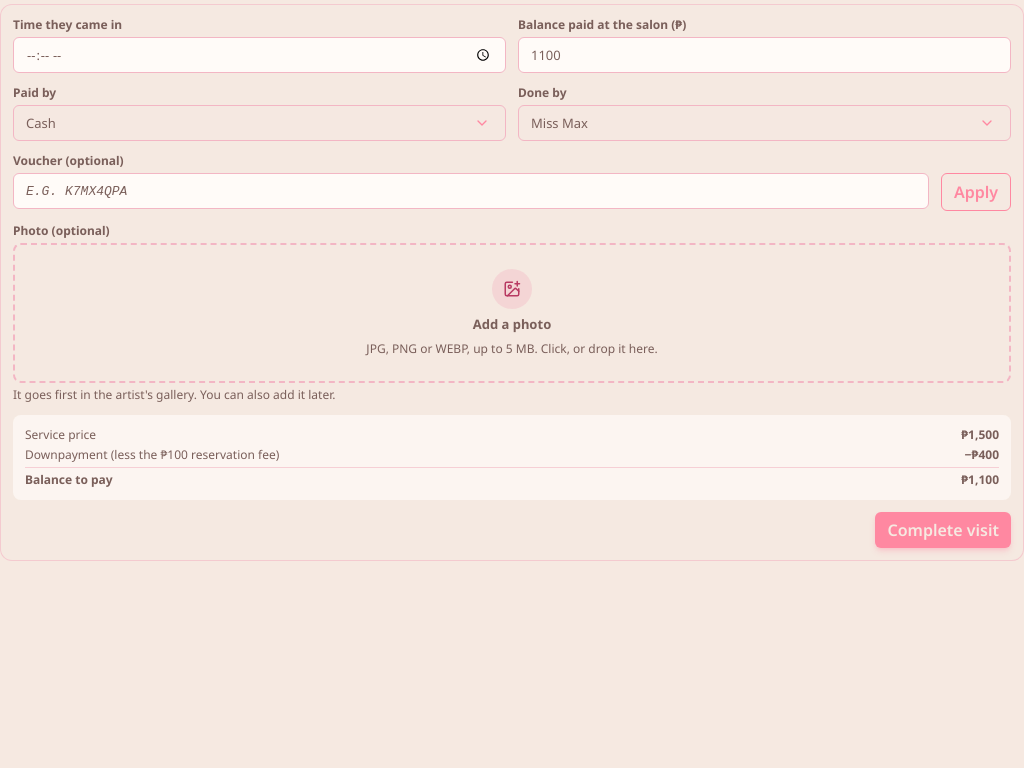
Test: the Complete visit form › refuses a balance that isn't whole pesos
Replace the text in the field labelled "Balance paid at the salon (₱)" with "12.5" at (764, 55), box [518,37,1011,73]
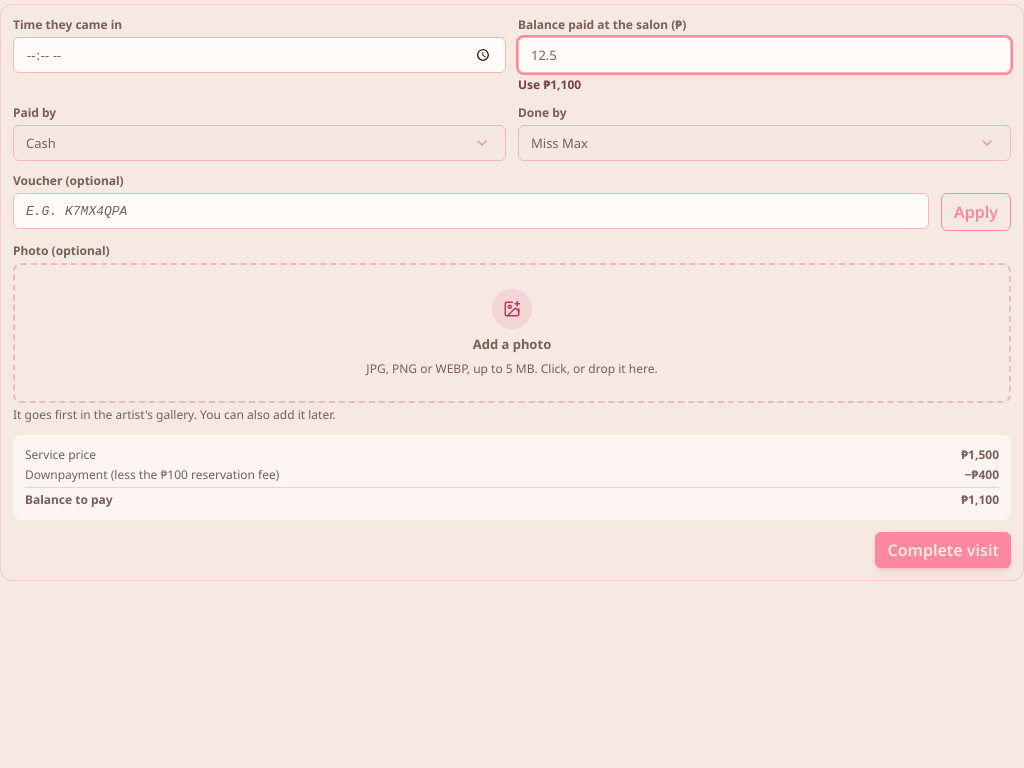
Click the button "Complete visit" at (943, 550), box [875,532,1011,568]
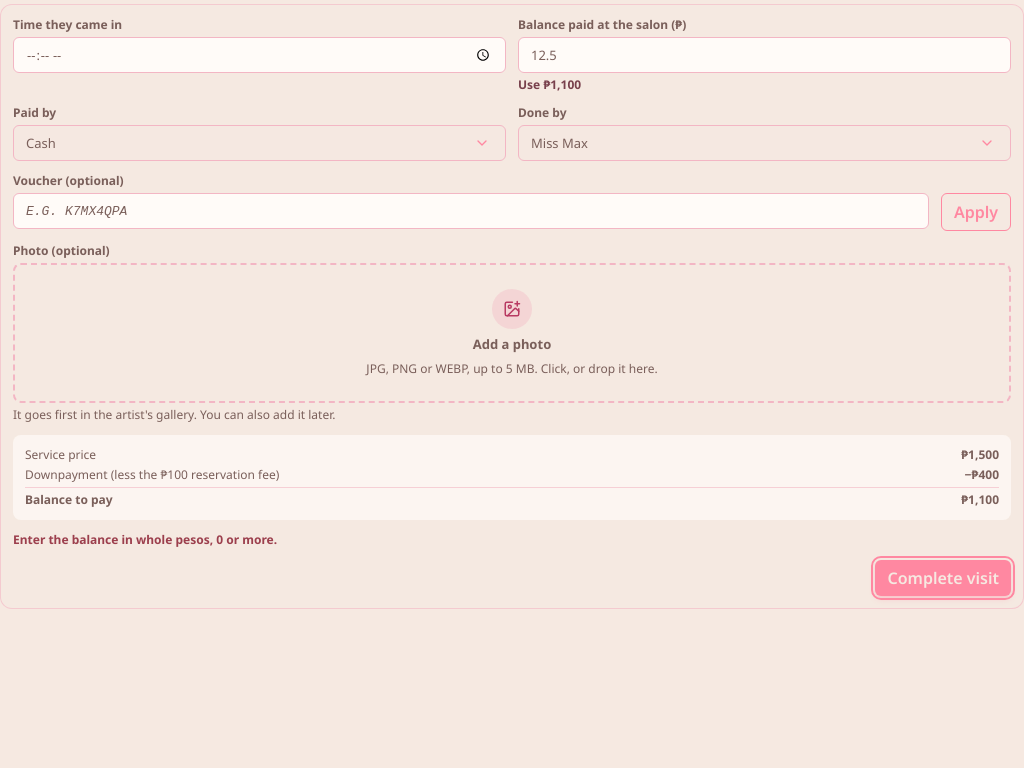
Result: the message shows "whole pesos" at [13,530,277,548]
